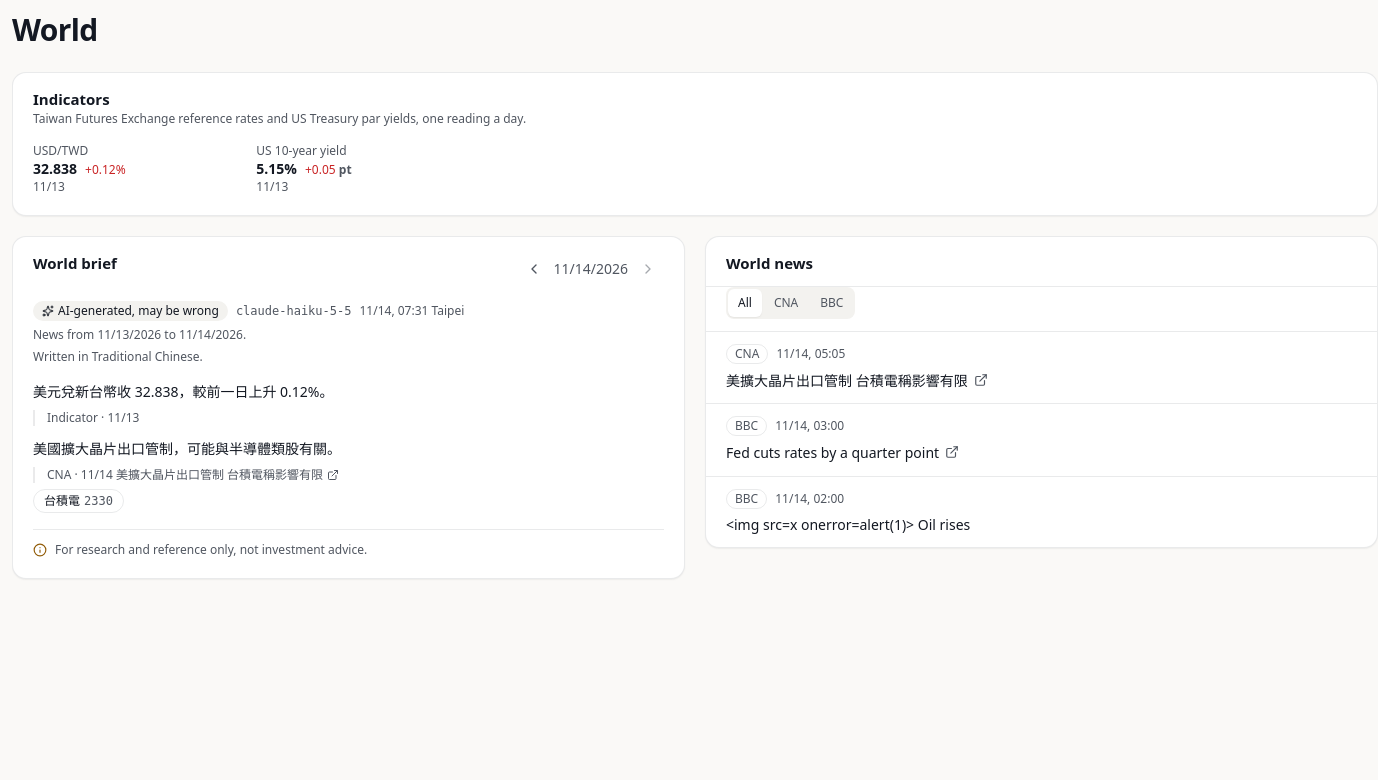
Test case: the world as the site holds it › steps back to an earlier day’s brief and forward again
This screenshot has width=1378, height=780.
Expected: the button named "Later brief" is disabled, [632,253,664,285]
Click the button named "Earlier brief". click: coordinates (534, 269)
box: [518,253,550,285]
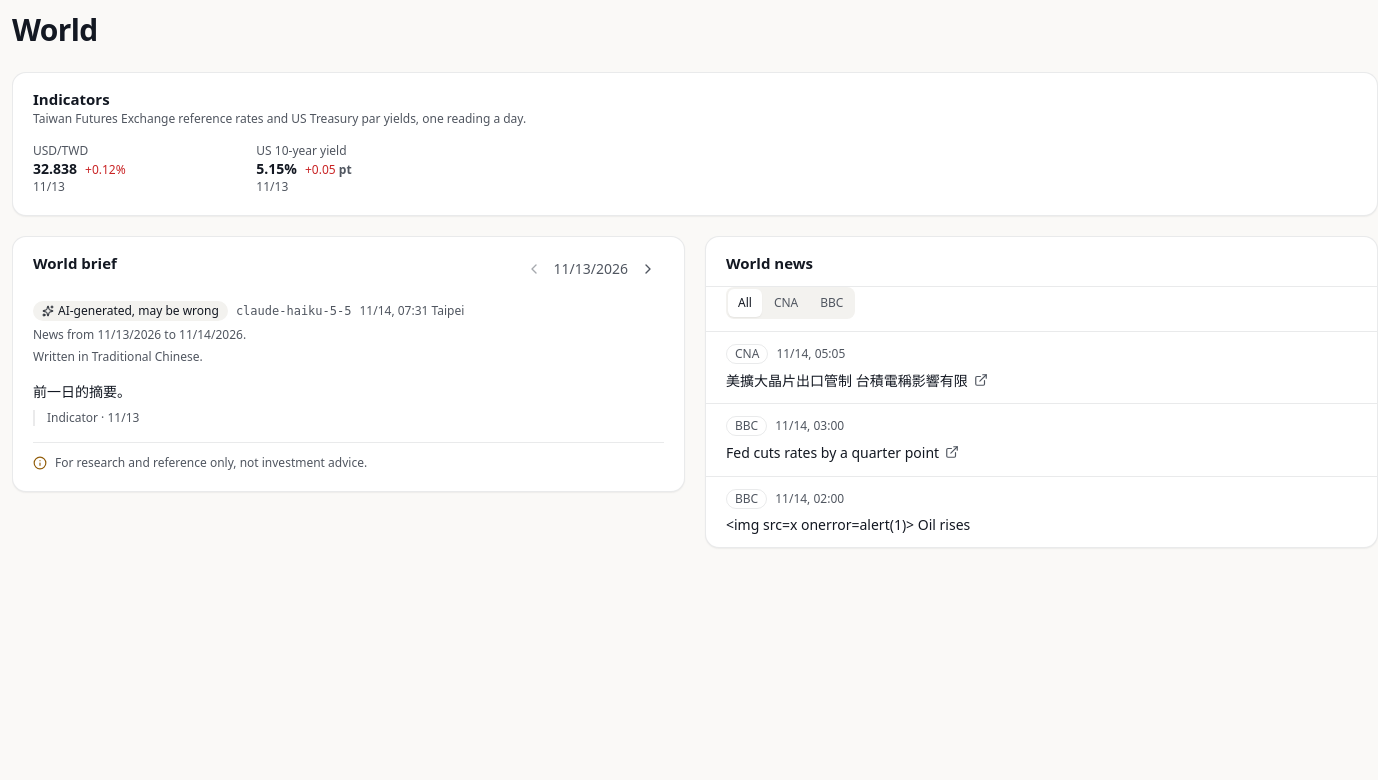
Result: the text "前一日的摘要。" is shown at [33,382,131,401]
Click the button named "Later brief". click: coordinates (648, 269)
box: [632,253,664,285]
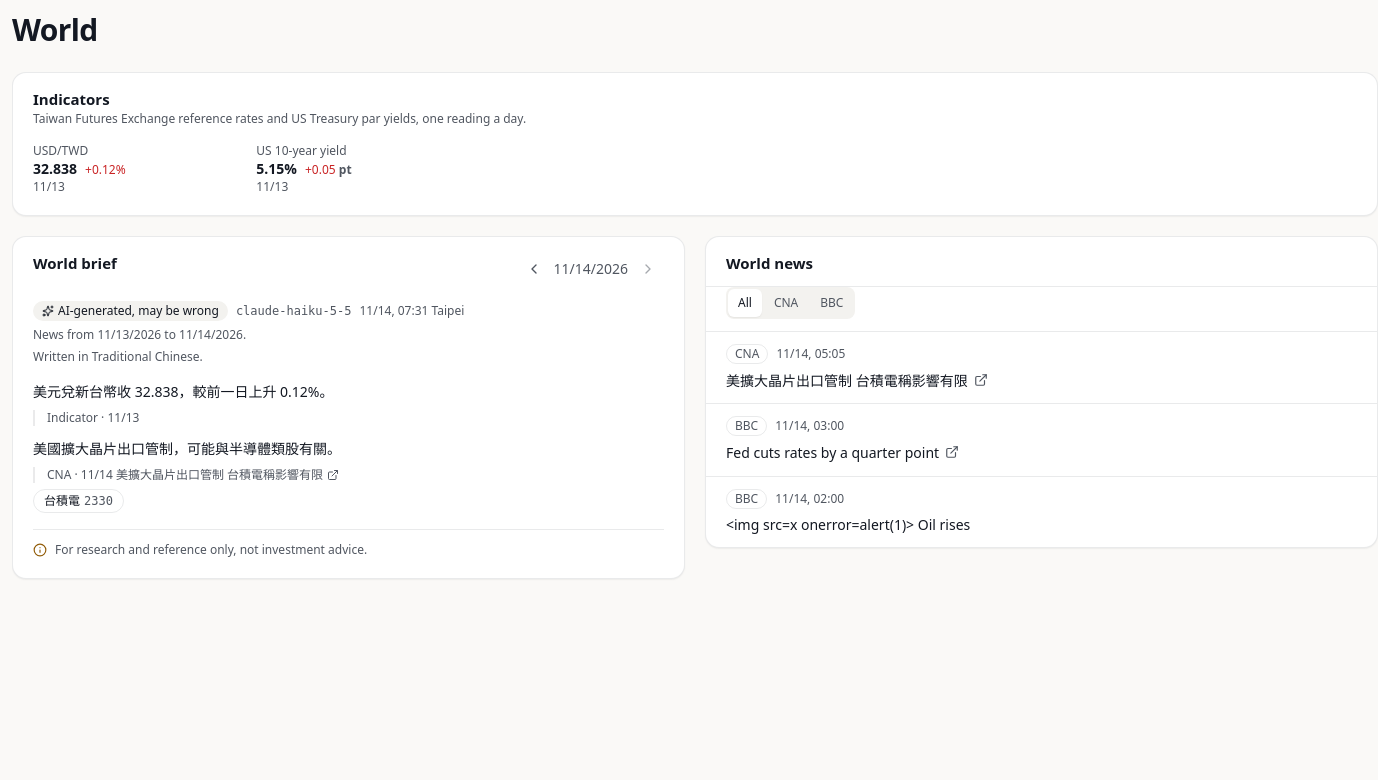
Result: the text "美元兌新台幣收 32.838，較前一日上升 0.12%。" is shown at [33,382,334,401]
